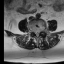CCS_normal: (36, 30, 38, 39)
LFS_stenosis: (40, 27, 42, 33)
LLS_normal: (38, 29, 40, 37)
RFS_stenosis: (32, 28, 34, 34)
RLS_normal: (34, 29, 36, 36)
